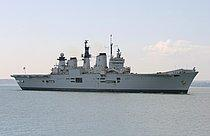MIL_Ship: (10, 43, 199, 95)
